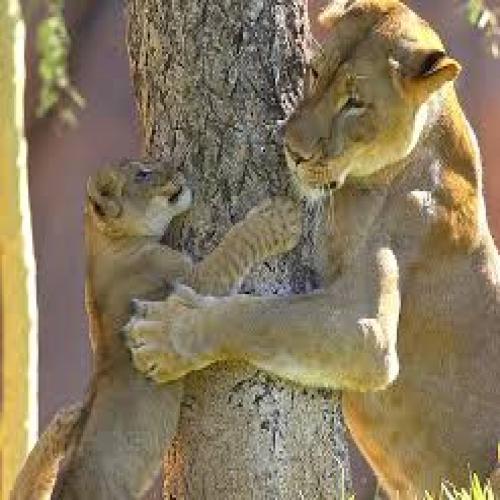lion-endangered: (122, 0, 500, 500), (9, 160, 302, 500)
